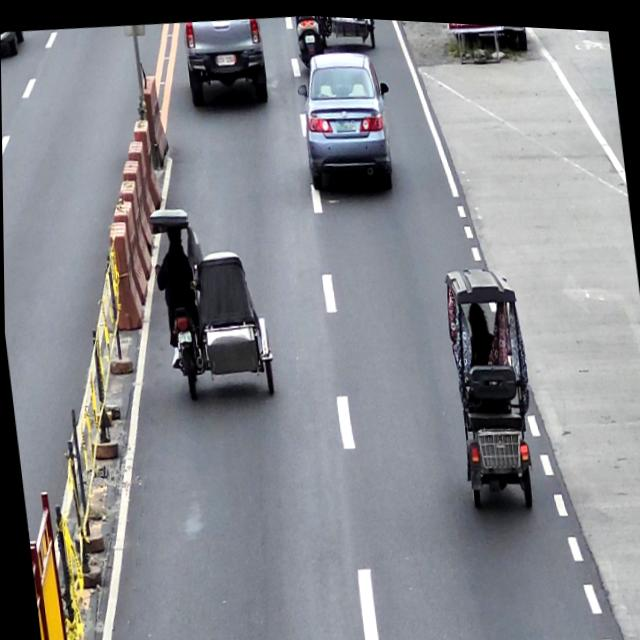Car: (292, 41, 400, 197), (182, 12, 271, 109)
E-bike: (441, 256, 541, 508)
License-Plate: (335, 113, 356, 130), (216, 50, 235, 63), (176, 327, 191, 342)
Tricycle: (147, 195, 278, 405)
